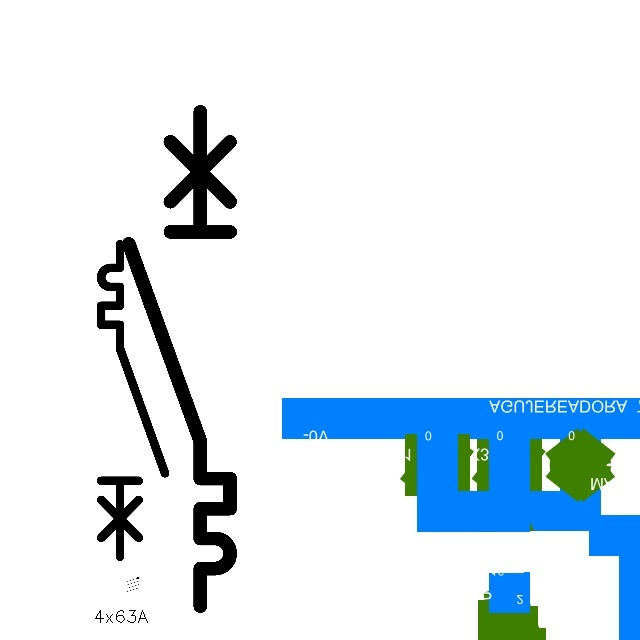interruptor_termomagnetico: (116, 99, 243, 619), (93, 236, 173, 565)
